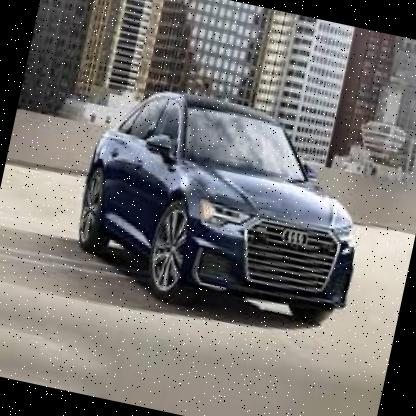car: (56, 70, 392, 352)
